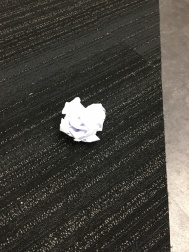paper_white: (51, 92, 112, 155)
